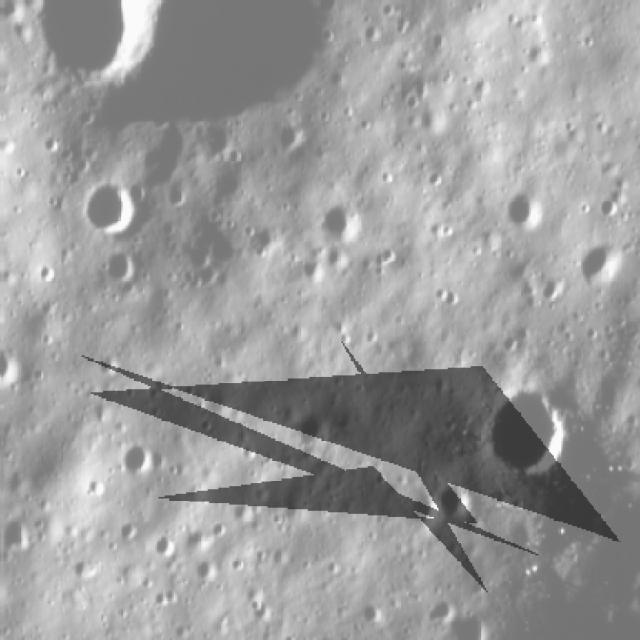crater: (11, 0, 174, 108), (470, 376, 575, 492), (72, 167, 151, 244), (569, 236, 626, 302), (308, 196, 369, 250), (491, 182, 549, 235), (389, 483, 438, 543), (287, 404, 342, 454), (437, 474, 486, 523), (93, 241, 144, 288), (248, 214, 288, 258), (1, 509, 36, 554), (112, 437, 158, 471), (193, 549, 221, 586), (152, 526, 178, 562), (355, 600, 387, 626), (115, 512, 138, 542)
